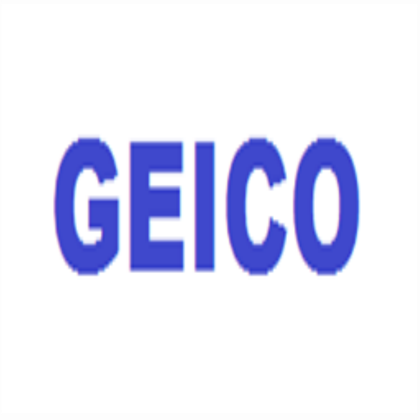Geico: (54, 130, 361, 274)
